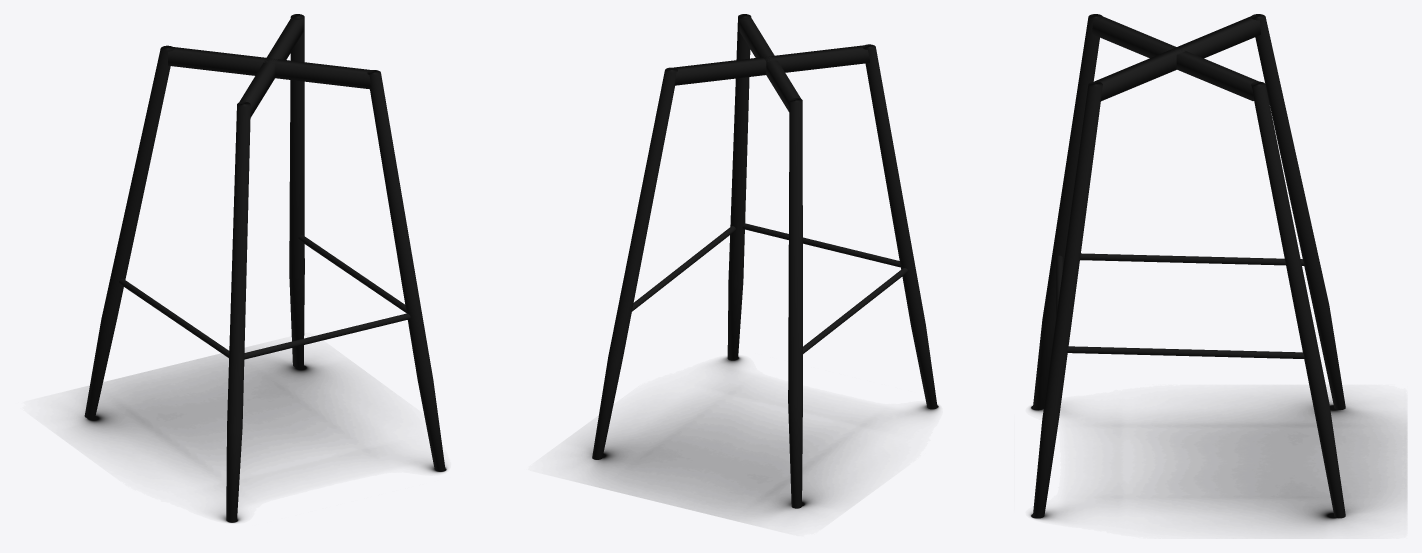
Rendered from Hooker 75cm.glb.
3 renders of one model, left to right at view 1: azimuth 30°, elevation 25°; view 2: azimuth 150°, elevation 25°; view 3: azimuth 270°, elevation 25°, orthographic. The views are drawn at different scales.
Visible parts, largest first — view 1: legs, Shadow001.001; view 2: legs, Shadow001.001; view 3: legs, Shadow001.001.
Part boxes in pixels (box(x1,y1,x2,y2)): legs: box(84, 14, 445, 522); Shadow001.001: box(72, 351, 447, 522); legs: box(592, 14, 937, 508); Shadow001.001: box(577, 356, 939, 519); legs: box(1033, 14, 1345, 518); Shadow001.001: box(1030, 395, 1406, 530).
Bounding box in the file's own units: 0.6039 × 0.7503 × 0.6506.
Materials: 2 (1 with a texture image).
